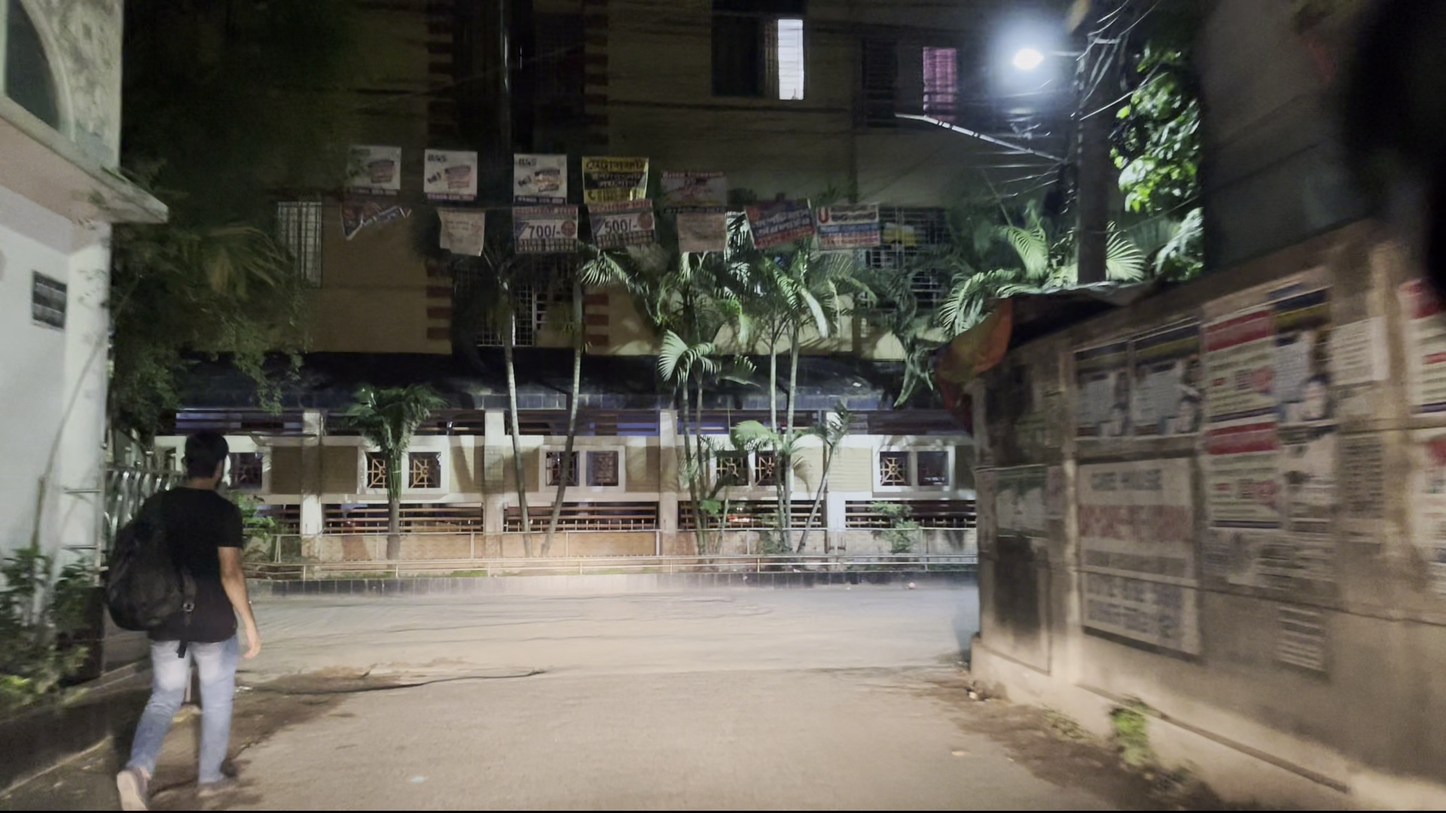person: (108, 445, 276, 813)
